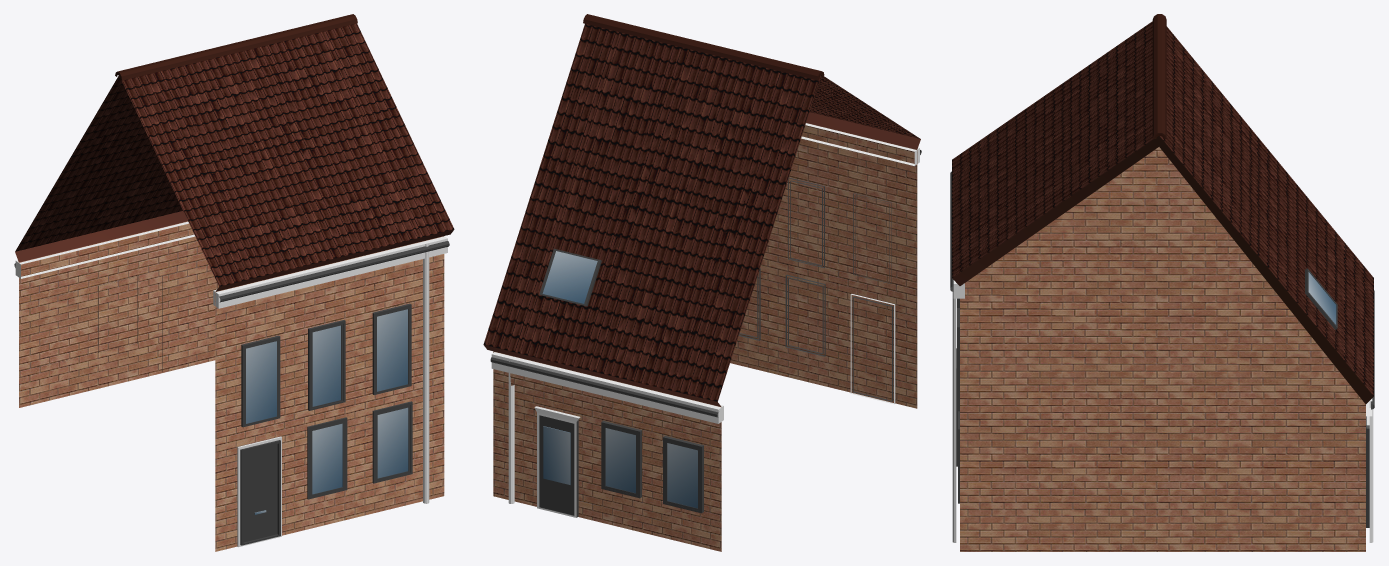
The model's file is Buorkerij_29.fbx.
3 views of the same model, side by side, from view 1: azimuth 30°, elevation 25°; view 2: azimuth 150°, elevation 25°; view 3: azimuth 270°, elevation 25° (orthographic). The views are drawn at different scales.
Parts seen in each view (by area): view 1: Buorkerij_29; view 2: Buorkerij_29; view 3: Buorkerij_29.
Boxes of the visible parts, box(x1,y1,x2,y2) form: Buorkerij_29: box(14, 14, 454, 551); Buorkerij_29: box(483, 14, 921, 551); Buorkerij_29: box(950, 14, 1374, 551).
Size of the model in its own units: 623 by 1031 by 938.
